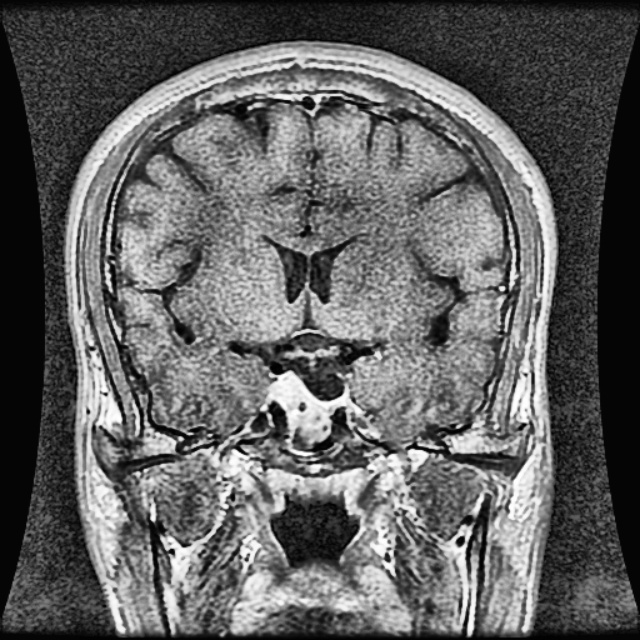Pituitary: (272, 372, 330, 444)
